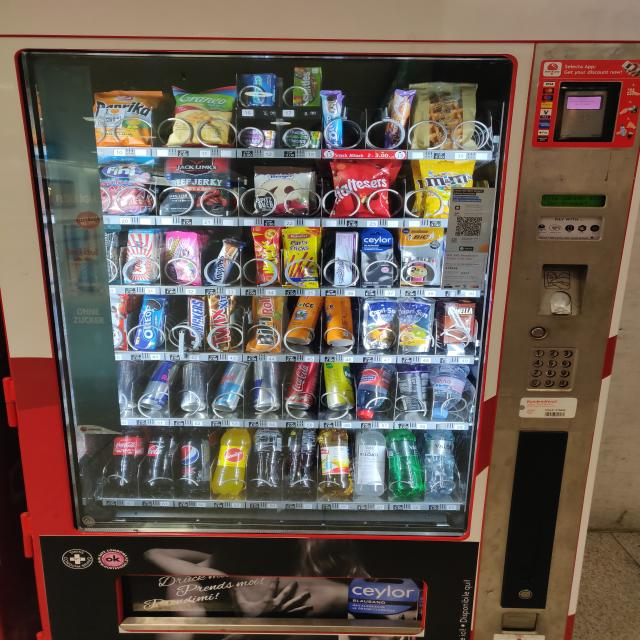airwaves_menthoneucalyptus_riegel_14_1_50173167: (234, 70, 280, 108)
bifi_roll__50__4251097402635: (246, 297, 284, 354)
c-swiss_dosenabisicetea__33__9120025930135: (280, 292, 323, 346), (320, 297, 360, 347)
caferoyal_classicmacchiato__33__7617014164487: (393, 364, 435, 414)
caprisun_multivitamin__20__4000177605004: (397, 297, 438, 351), (359, 297, 396, 350)
coke__dose_33__54491472: (284, 365, 320, 411)
coke__flasche_50__54491472: (102, 424, 144, 491)
coke_zero_flasche_50__5449000131836: (140, 430, 179, 492)
comella_schokodrink__33__7613100037253: (440, 299, 483, 348)
evian___50__3068320353500: (434, 364, 472, 420)
fini_galaxymix_packung_100_1_8410525150364: (102, 157, 156, 216)
fini_jellykisses_packung_80_1_8410525116704: (164, 232, 204, 288)
fuse_lemon__50__5449000235947: (283, 428, 318, 489)
fuse_lemon_dose_33__5449000235947: (323, 361, 358, 415)
fuse_peach__50__5449000236623: (249, 429, 289, 493)
henniez_rot__33__7610235000442: (355, 362, 395, 419)
jacklinks_beefjerkyorginal__25__4047751730219: (163, 156, 236, 218)
jlbrichard_gauffre__90__5410495002000: (411, 80, 484, 148)
kagi_specialedition__50__7610046000259: (120, 226, 160, 284)
knoppers_riegel____4035800488808: (206, 240, 242, 287)
lorenz_nicnacs__40__4018077798818: (256, 226, 284, 286)
malburner_partysticks__40__7610200279682: (282, 227, 325, 289)
maltesers___100__5000159023061: (327, 156, 407, 218)
mnms_gelb__45__40111445: (418, 161, 477, 219)
oreo___66__84100733: (130, 296, 166, 350)
pepsi_max__50__4060800105943: (175, 426, 214, 494)
ramseier_schorle__50__7610057012456: (316, 426, 354, 496)
redbull___33__90162909: (139, 360, 176, 412), (178, 360, 210, 414), (253, 361, 287, 411)
redbull_light__33__90162800: (212, 363, 250, 412)
sinalco_orange__50__4018715000112: (211, 428, 251, 498)
skittles_sour_riegel_51_1_0000000000004: (292, 64, 322, 105)
snickers___50__5000159461122: (184, 294, 208, 350)
stimorol_spearmint_riegel_14_1_0000000000005: (282, 128, 322, 148)
stimorol_wildcherry_riegel_14_1_57060330: (242, 127, 278, 147)
twix___50__5000159459228: (204, 294, 244, 352)
valser_classic__50__76404160: (389, 430, 428, 498)
valser_still__50__7610335002575: (421, 428, 462, 494)
vitaminwell_reload__50__7350042716388: (353, 427, 390, 497)
zweifel_graneochilli__100__7610095184009: (163, 82, 239, 148)
zweifel_paprika__90__7610095013002: (93, 86, 161, 149)
